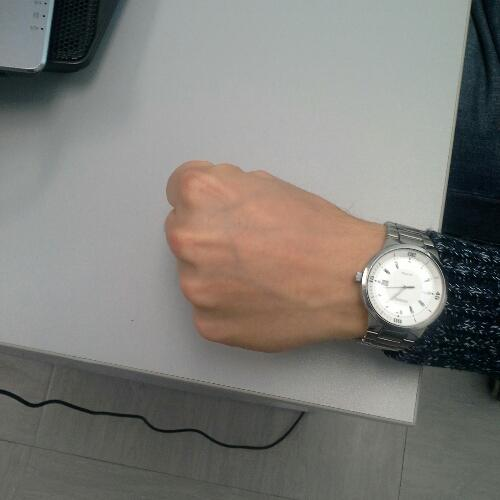rock: (160, 148, 382, 354)
